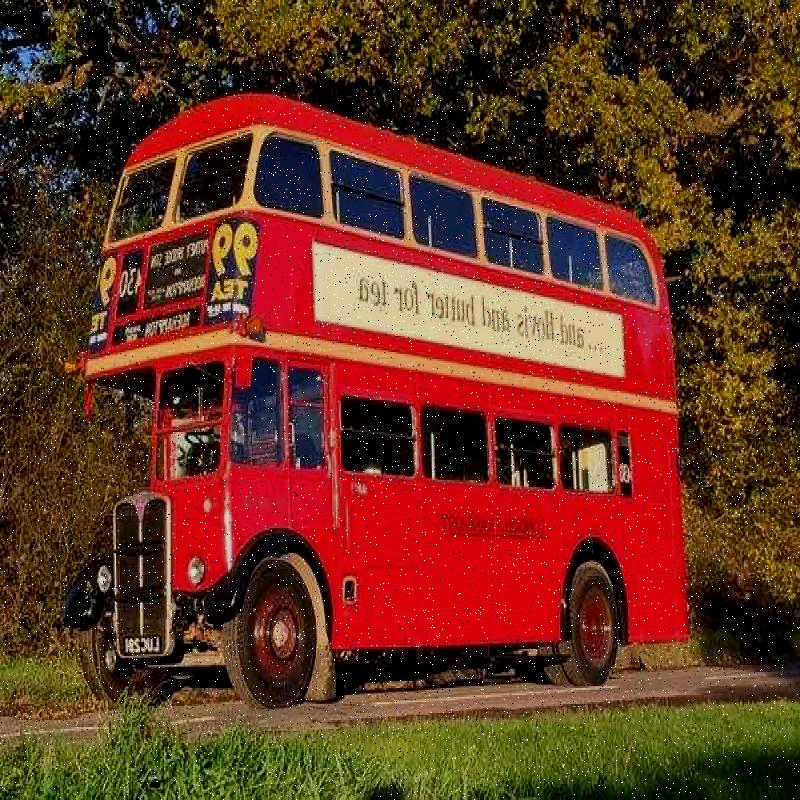bus: (87, 157, 693, 699)
